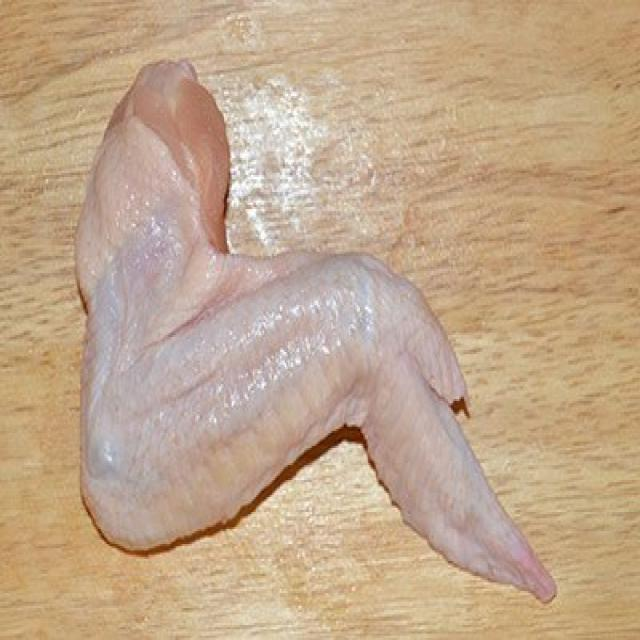wing: (79, 63, 555, 606)
